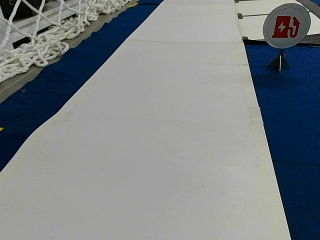battery: (262, 2, 310, 48)
